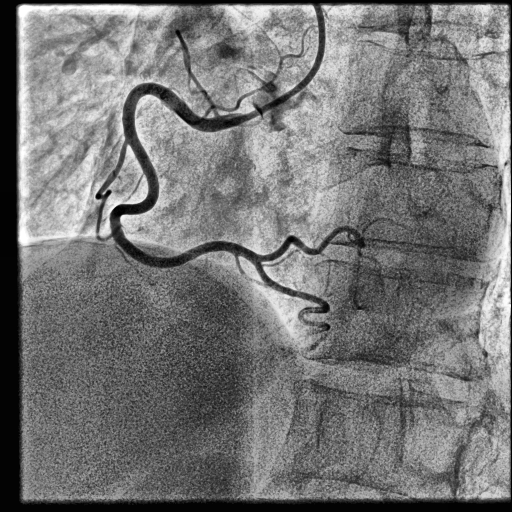pborca: (261, 225, 360, 261)
pda: (253, 262, 329, 354)
rca: (111, 82, 260, 268)
